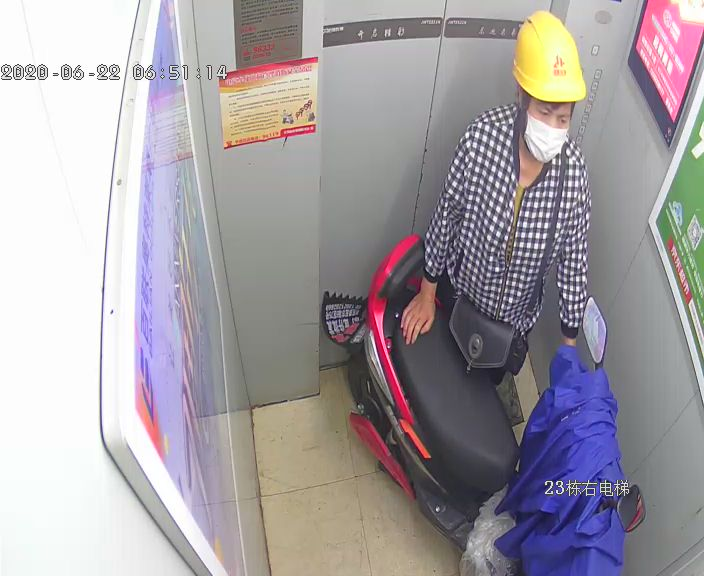Electric-bicycle: (324, 236, 647, 573)
